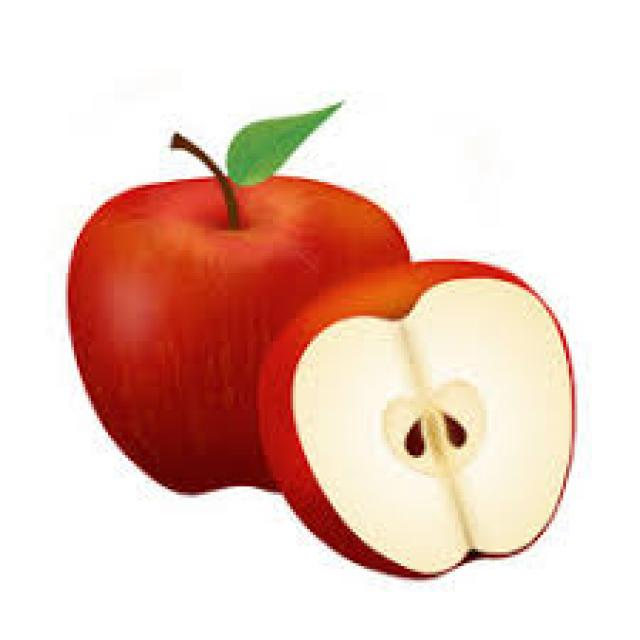Apple: (62, 178, 408, 497), (257, 258, 577, 580)
